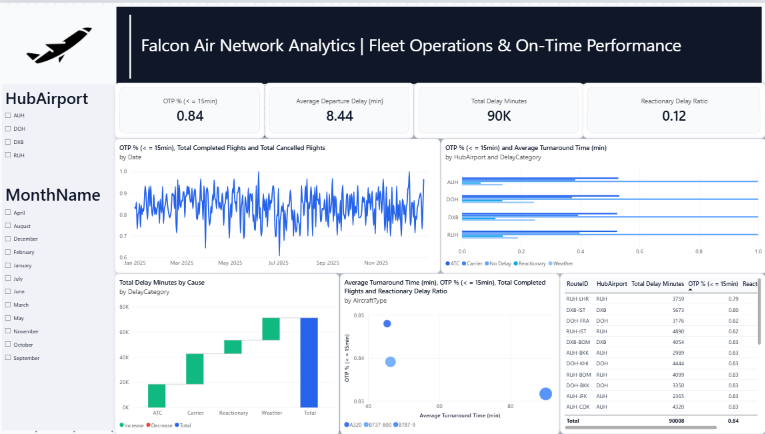

What the dashboard file says about the page in this screenshot:
{"tool":"powerbi","page":{"name":"Fleet Ops & OTP","canvas":[1920,1080],"ordinal":0},"visuals":[{"type":"shape","box":[0,187.2,306.6,892],"z":0},{"type":"shape","box":[292.7,340.5,1626.7,738.7],"z":1000},{"type":"shape","box":[0,0,1919.3,213],"z":2000},{"type":"cardVisual","fields":{"Data":["Fact_Flights.OTP % (< = 15min)"]},"box":[292.7,201.1,374.3,139.4],"z":3000},{"type":"cardVisual","fields":{"Data":["Fact_Flights.Average Departure Delay (min)"]},"box":[667,201.1,372.3,139.4],"z":4000},{"type":"cardVisual","fields":{"Data":["Fact_Flights.Total Delay Minutes"]},"box":[1039.3,201.1,424.1,139.4],"z":5000},{"type":"cardVisual","fields":{"Data":["Fact_Flights.Reactionary Delay Ratio"]},"box":[1463.4,201.1,455.9,139.4],"z":6000},{"type":"lineChart","fields":{"Category":["Dim_Date.Date"],"Y":["Fact_Flights.OTP % (< = 15min)"]},"box":[291.9,339.5,813.1,336.5],"z":7000},{"type":"clusteredBarChart","fields":{"Category":["Dim_Route.HubAirport"],"Y":["Fact_Flights.OTP % (< = 15min)"],"Series":["Dim_DelayCodes.DelayCategory"]},"box":[1106.7,339.1,813.9,337.4],"z":8000},{"type":"waterfallChart","fields":{"Category":["Dim_DelayCodes.DelayCategory"],"Y":["Fact_Flights.Total Delay Minutes by Cause"]},"box":[292.7,676.5,560.5,403.4],"z":9000},{"type":"scatterChart","fields":{"X":["Fact_Flights.Average Turnaround Time (min)"],"Y":["Fact_Flights.OTP % (< = 15min)"],"Size":["Fact_Flights.Total Completed Flights"],"Series":["Dim_Aircraft.AircraftType"]},"box":[855,677.4,549.4,402.7],"z":10000},{"type":"tableEx","fields":{"Values":["Dim_Route.RouteID","Dim_Route.HubAirport","Fact_Flights.Total Delay Minutes","Fact_Flights.OTP % (< = 15min)","Fact_Flights.Reactionary Delay Ratio"]},"box":[1404.4,677.4,514.2,400.7],"z":11000},{"type":"slicer","fields":{"Values":["Dim_Route.HubAirport"]},"box":[0,199.1,291.4,240.4],"z":12000},{"type":"slicer","fields":{"Values":["Dim_Date.MonthName"]},"box":[0,439.5,291.4,638.7],"z":13000},{"type":"image","box":[0,0,306,213.7],"z":14000},{"type":"shape","box":[179.7,19.4,301.1,179.7],"z":15000},{"type":"textbox","box":[347.3,65.6,1527.4,167.6],"z":16000}]}

Visuals, with their boxes in screenshot pixels (x1, y1, x2, y2), scaled from the page's 1920x1080 canvas onto the 765x434 screenshot:
shape: locate(0, 75, 122, 433)
shape: locate(117, 137, 764, 433)
shape: locate(0, 0, 764, 86)
cardVisual - Fact_Flights.OTP % (< = 15min): locate(117, 81, 266, 137)
cardVisual - Fact_Flights.Average Departure Delay (min): locate(266, 81, 414, 137)
cardVisual - Fact_Flights.Total Delay Minutes: locate(414, 81, 583, 137)
cardVisual - Fact_Flights.Reactionary Delay Ratio: locate(583, 81, 764, 137)
lineChart - Dim_Date.Date x Fact_Flights.OTP % (< = 15min): locate(116, 136, 440, 272)
clusteredBarChart - Dim_Route.HubAirport x Fact_Flights.OTP % (< = 15min): locate(441, 136, 764, 272)
waterfallChart - Dim_DelayCodes.DelayCategory x Fact_Flights.Total Delay Minutes by Cause: locate(117, 272, 340, 433)
scatterChart - Fact_Flights.Average Turnaround Time (min) x Fact_Flights.OTP % (< = 15min): locate(341, 272, 560, 433)
tableEx - Dim_Route.RouteID x Dim_Route.HubAirport: locate(560, 272, 764, 433)
slicer - Dim_Route.HubAirport: locate(0, 80, 116, 177)
slicer - Dim_Date.MonthName: locate(0, 177, 116, 433)
image: locate(0, 0, 122, 86)
shape: locate(72, 8, 192, 80)
textbox: locate(138, 26, 747, 94)
